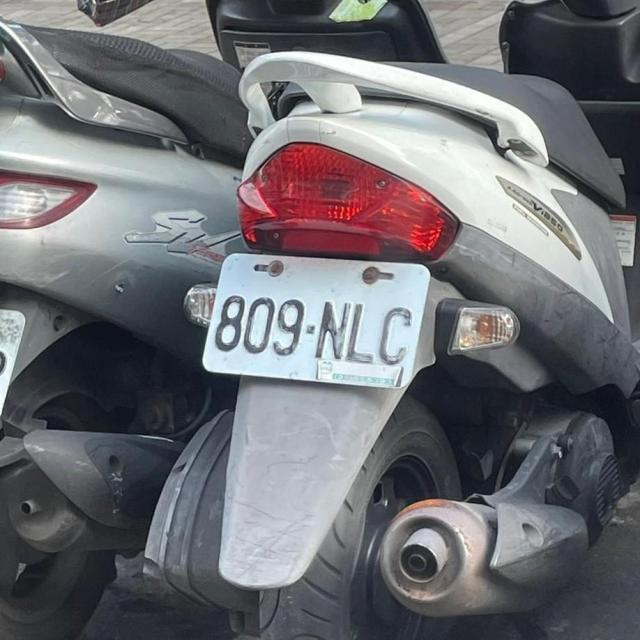W: (200, 239, 435, 395), (0, 267, 32, 427)
